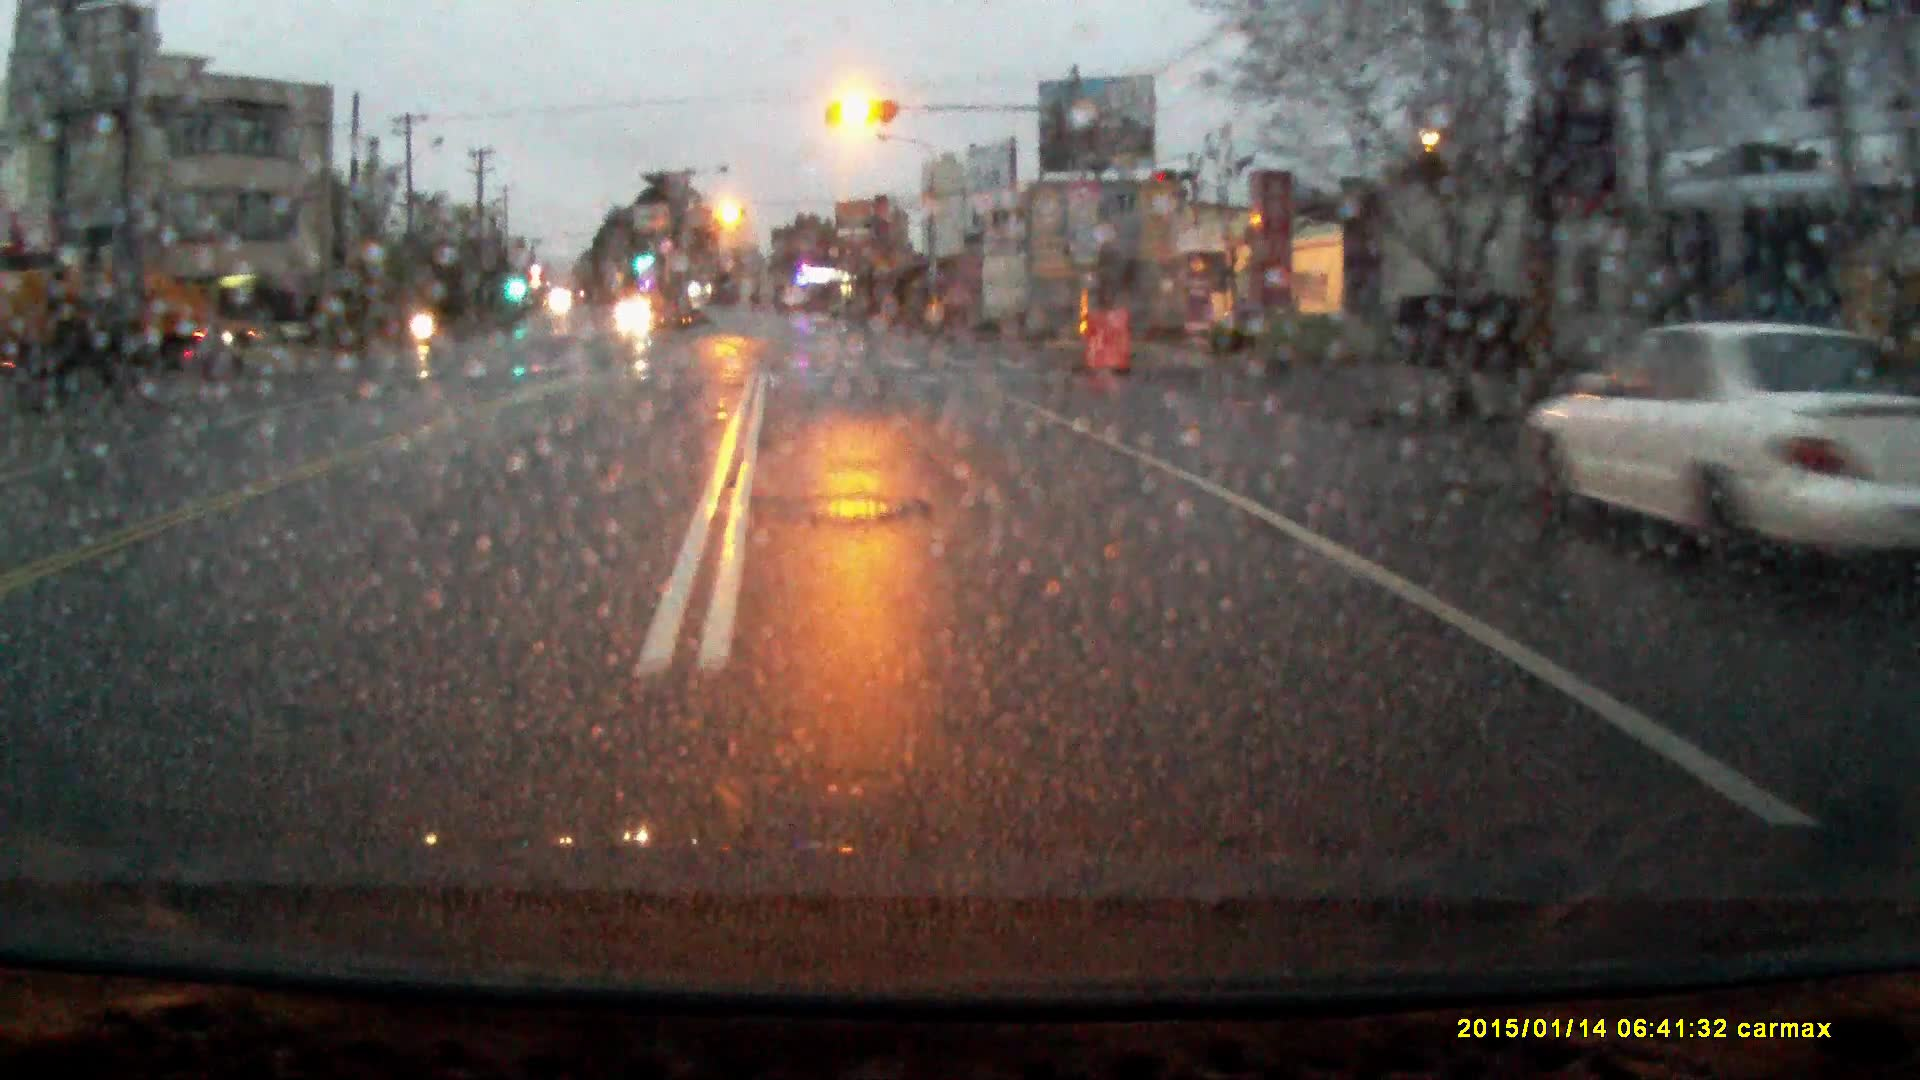rider: (410, 286, 439, 351)
vehicle: (1514, 321, 1911, 558), (1, 258, 231, 381), (615, 296, 653, 328)
